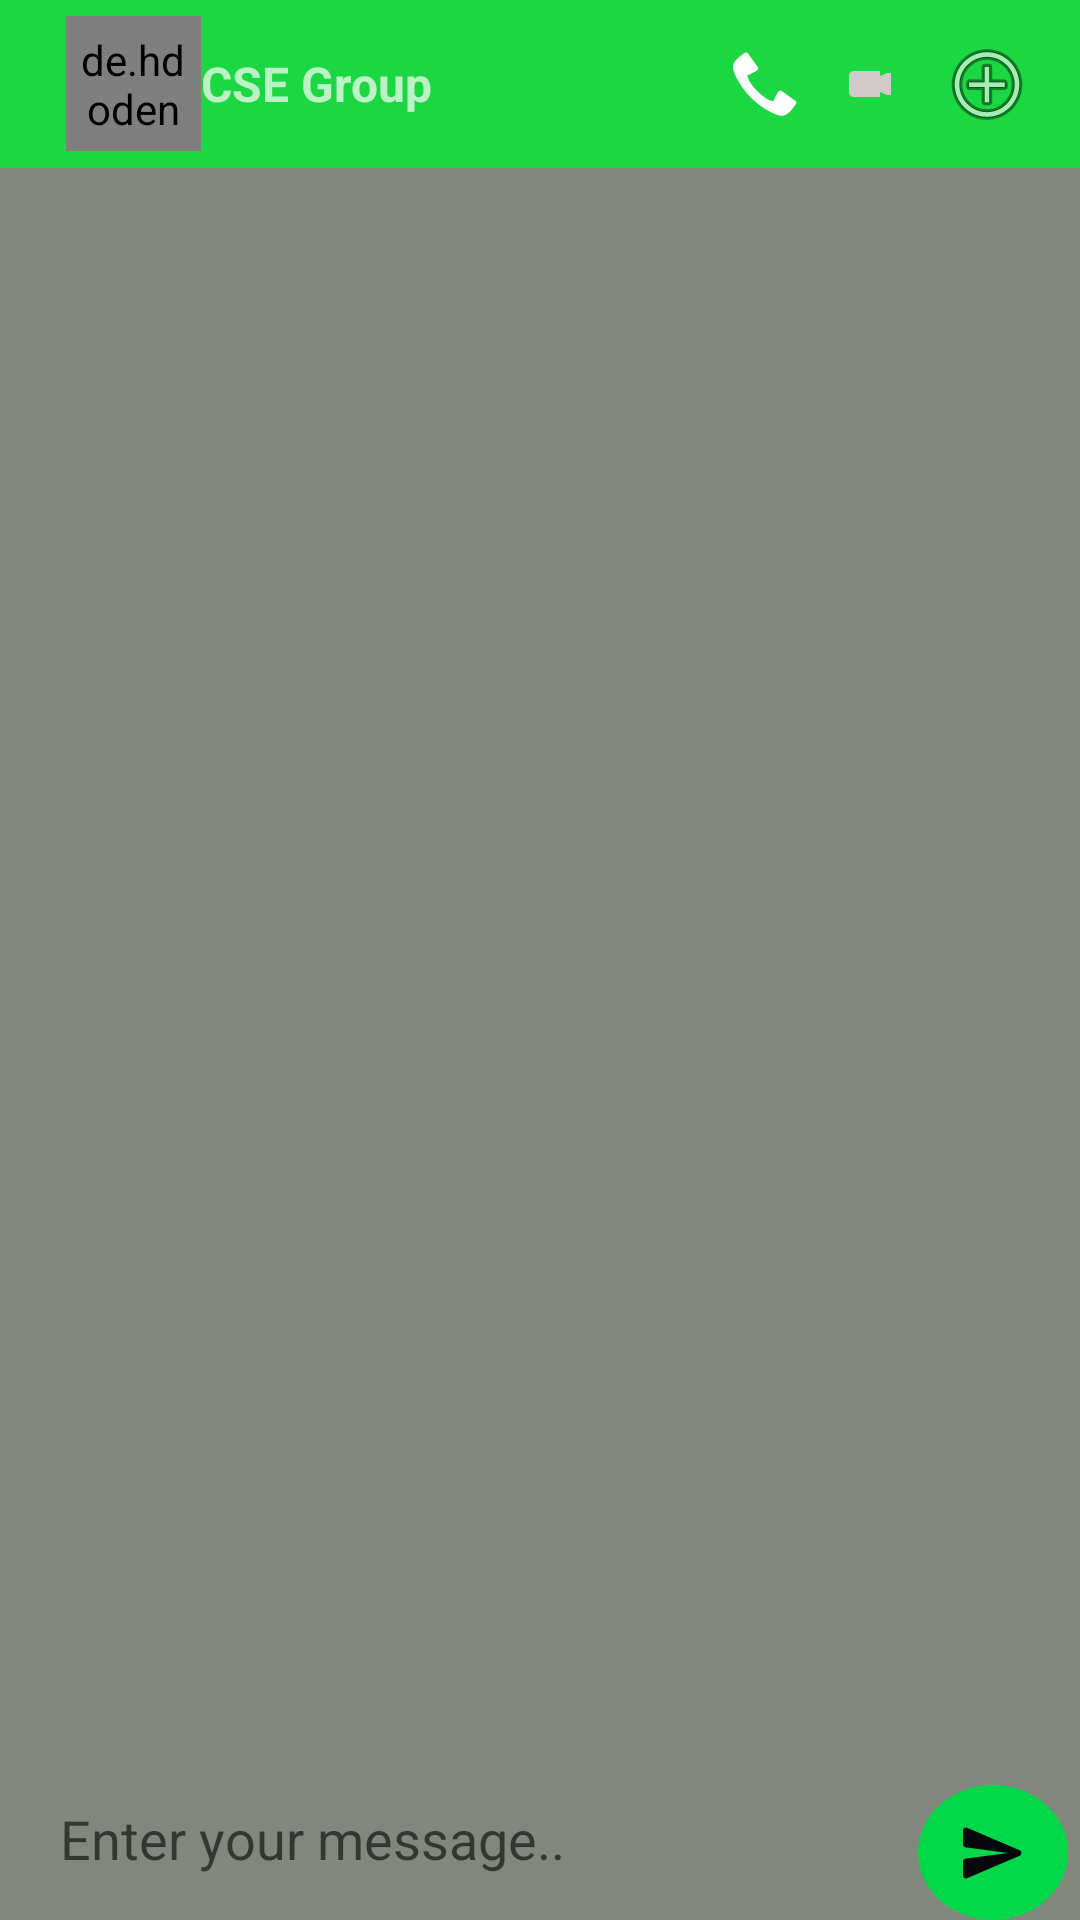

Icons on this 1080px x 1920px Android screen, each with its box as (x1, y1, x2, y2):
add: (951, 49, 1023, 120)
phone call: (733, 52, 797, 116)
presence video away: (849, 71, 891, 97)
send: (918, 1785, 1068, 1920)
